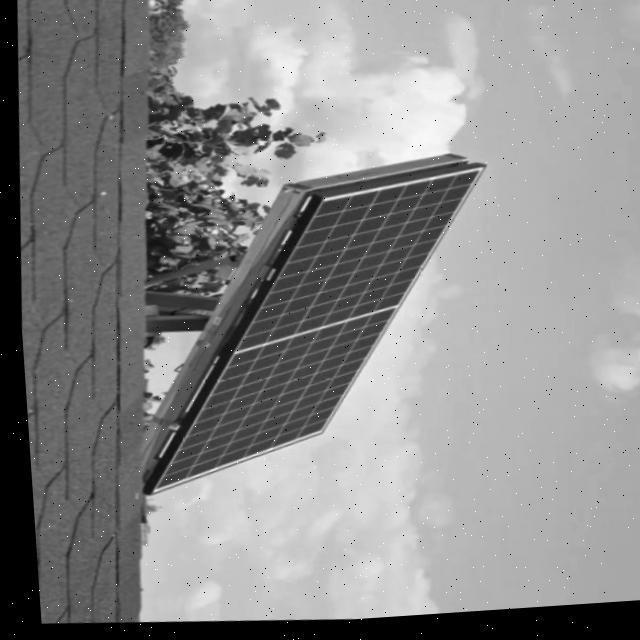Normal Solar Panel: (119, 152, 496, 514)
